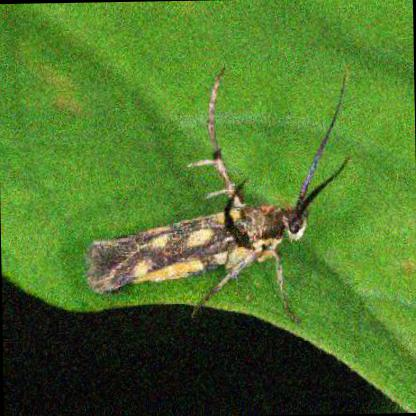Leaf Webber: (82, 66, 351, 326)
